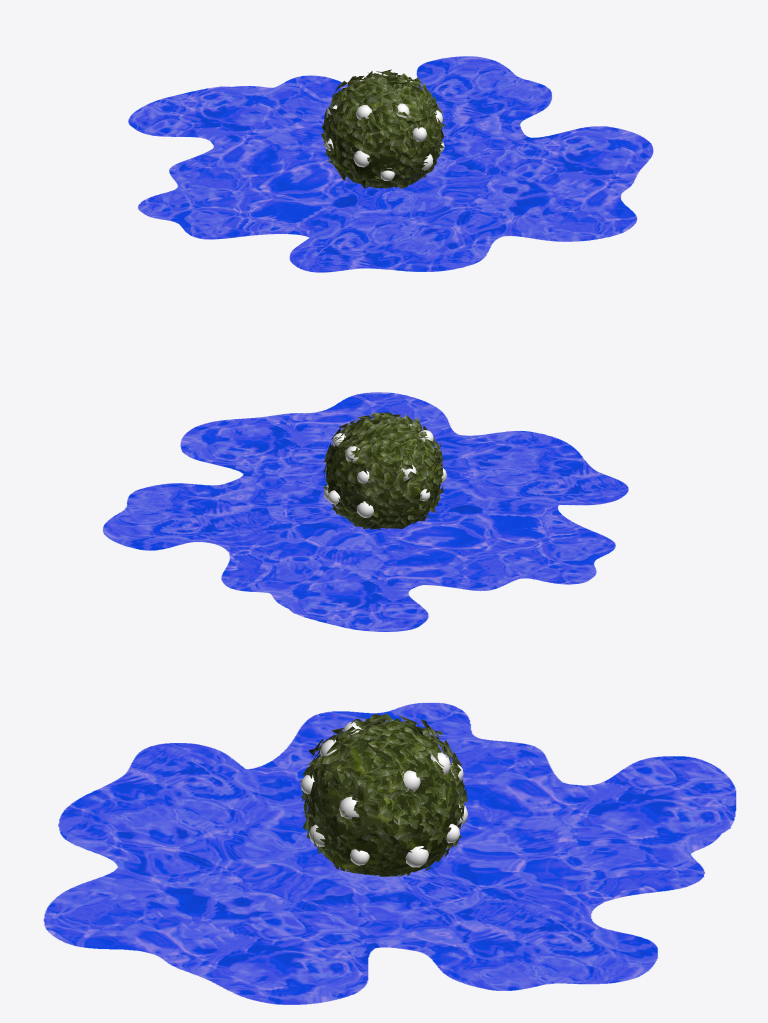
Rendered from fruit.glb.
3 renders of one model, top to bottom at view 1: azimuth 30°, elevation 25°; view 2: azimuth 150°, elevation 25°; view 3: azimuth 270°, elevation 25°, orthographic. The views are drawn at different scales.
Parts seen in each view (by area): view 1: Bush; view 2: Bush; view 3: Bush.
Part boxes in pixels (x1,y1,x2,y2): Bush: [128, 56, 653, 272]; Bush: [102, 392, 628, 631]; Bush: [43, 702, 736, 1004].
Bounding box in the file's own units: 8 × 1.89 × 8.
Materials: 4 (3 with a texture image).
